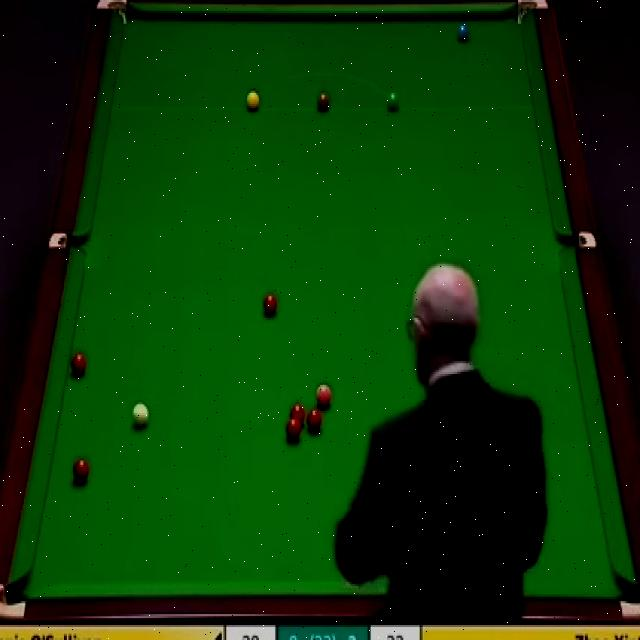blue-ball: (458, 23, 468, 45)
brown-ball: (316, 93, 330, 111)
green-ball: (386, 89, 401, 114)
pink-ball: (316, 382, 332, 408)
red-ball: (68, 351, 88, 378), (72, 455, 90, 485), (306, 408, 323, 433), (290, 402, 305, 428), (261, 293, 278, 315), (286, 417, 301, 440)
white-ball: (130, 401, 149, 431)
yellow-ball: (245, 90, 261, 112)
